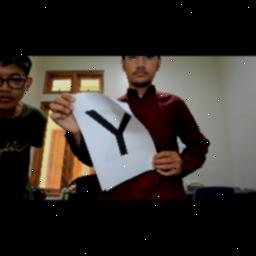y: (84, 108, 136, 158)
